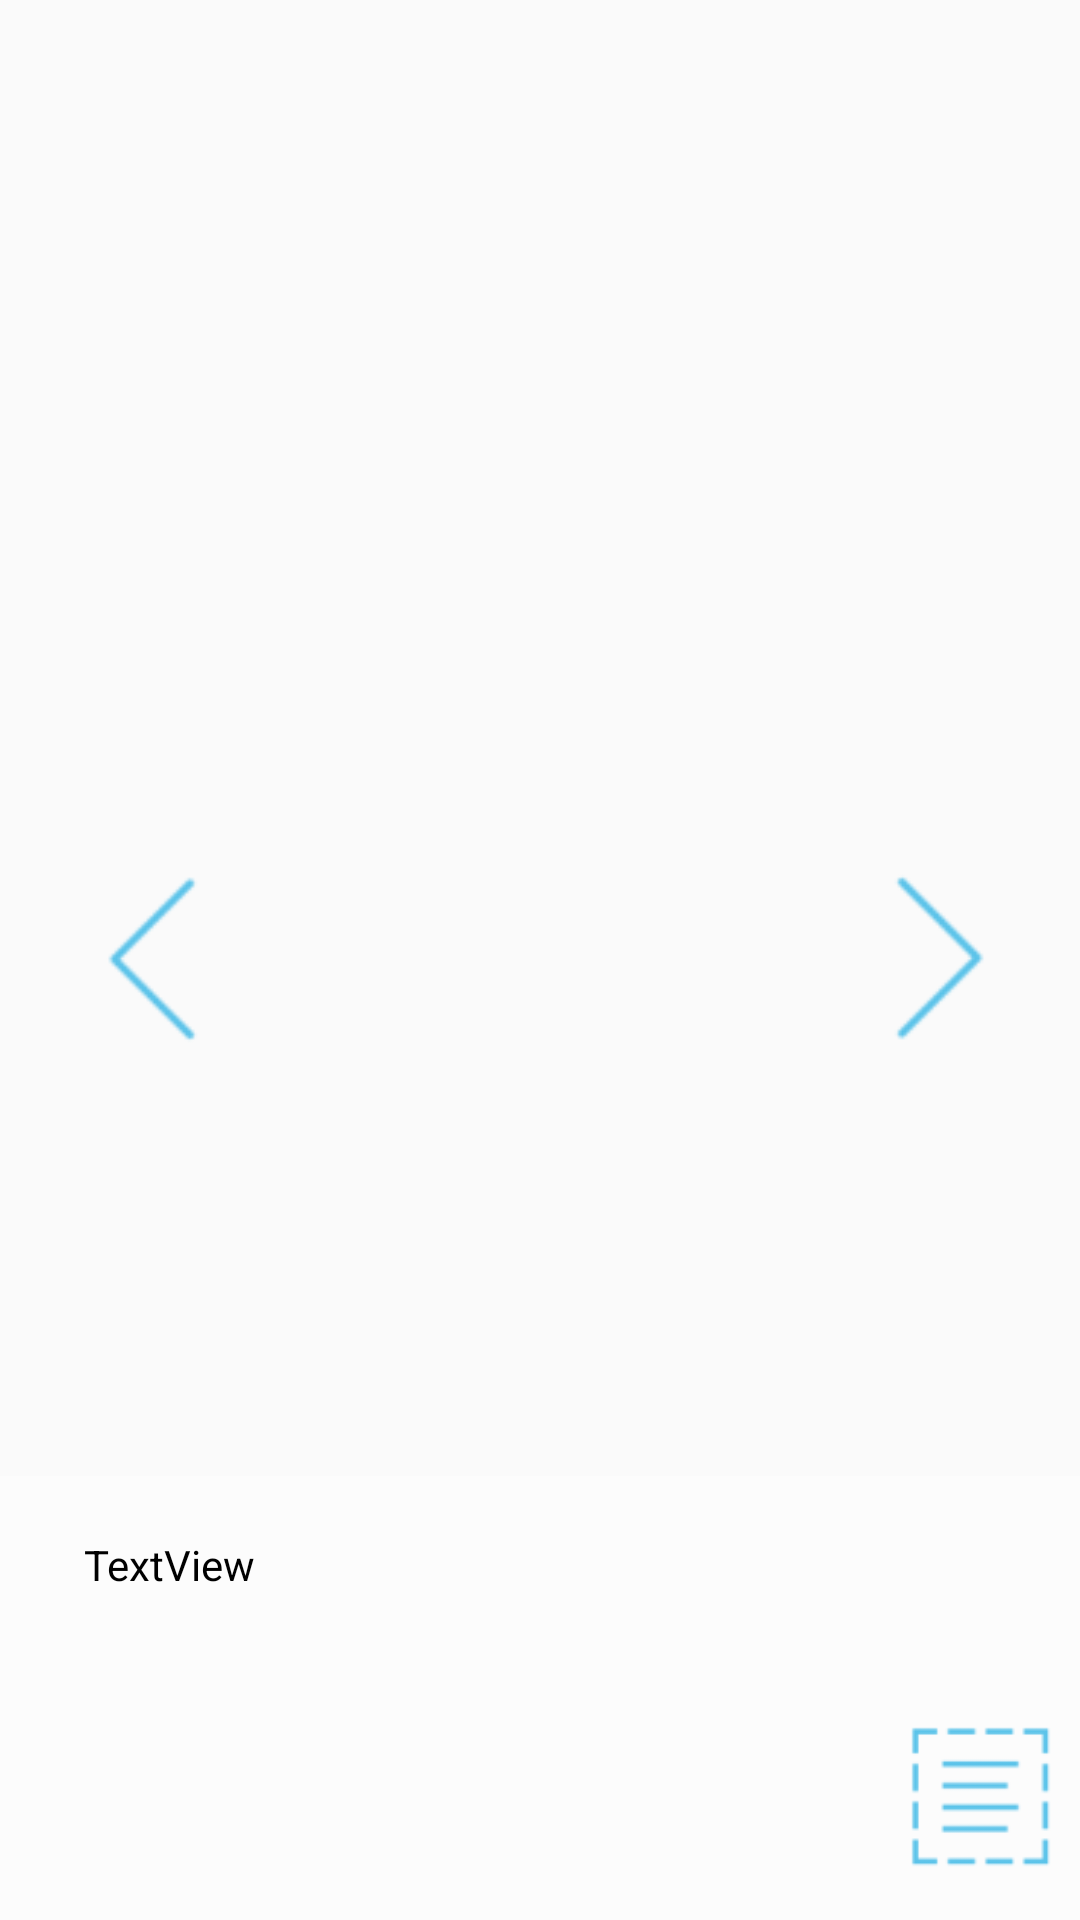

Named icons in this screenshot (1080×1920) and their bounding boxes, (x1, y1, x2, y2):
left: (109, 878, 195, 1040)
right: (897, 877, 983, 1039)
